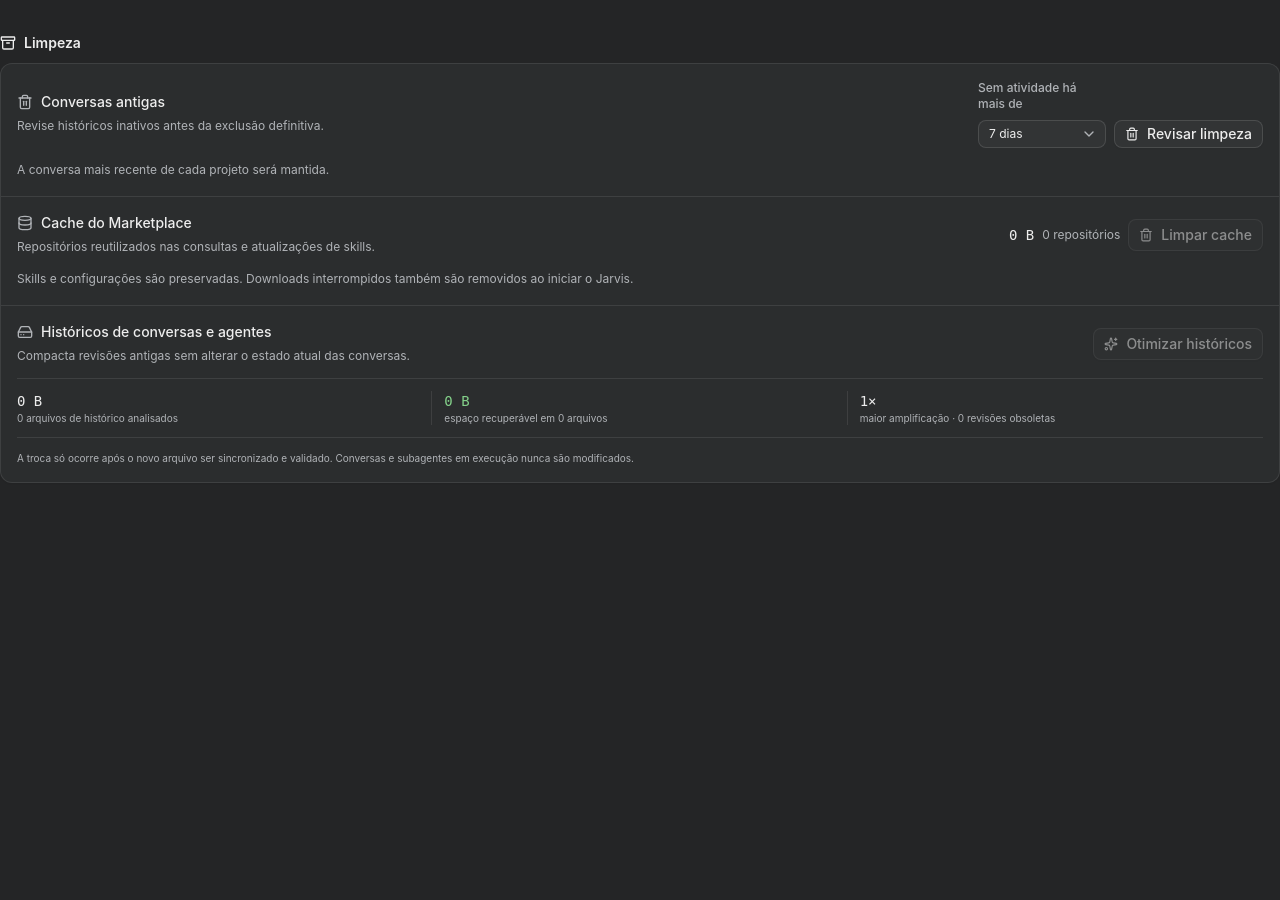
it: conversation cleanup › previews seven-day cleanup and only deletes the reviewed IDs after confirmation
Step 1. Click the button "Revisar limpeza" → x=1188, y=134, box [1114,120,1263,148]
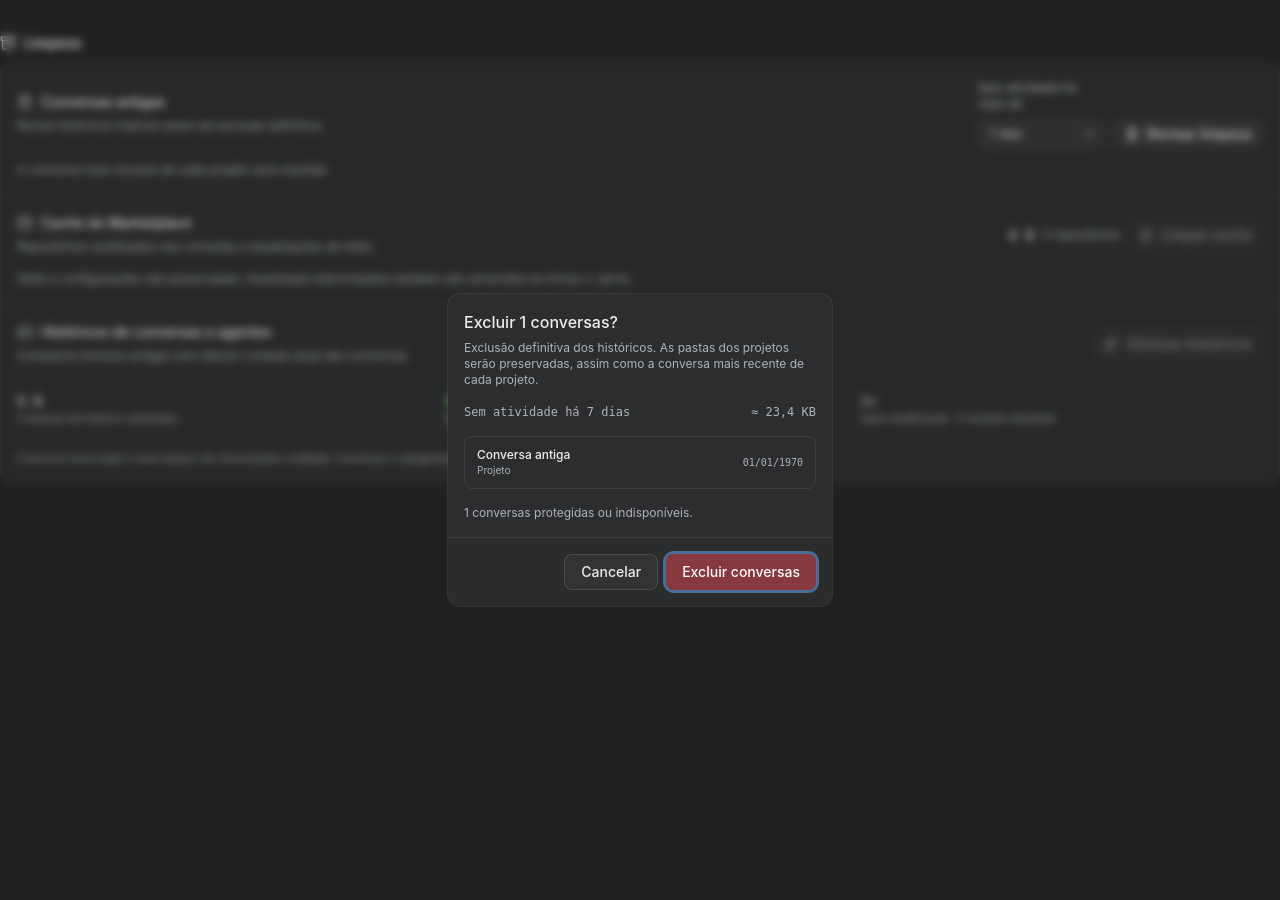
Now the dialog shows "Conversa antiga", box [477,447,570,462]
Now the dialog shows "As pastas dos projetos serão preservadas", box [464,340,804,387]
Step 2. Click the button "Excluir conversas" → x=741, y=572, box [666,554,816,590]
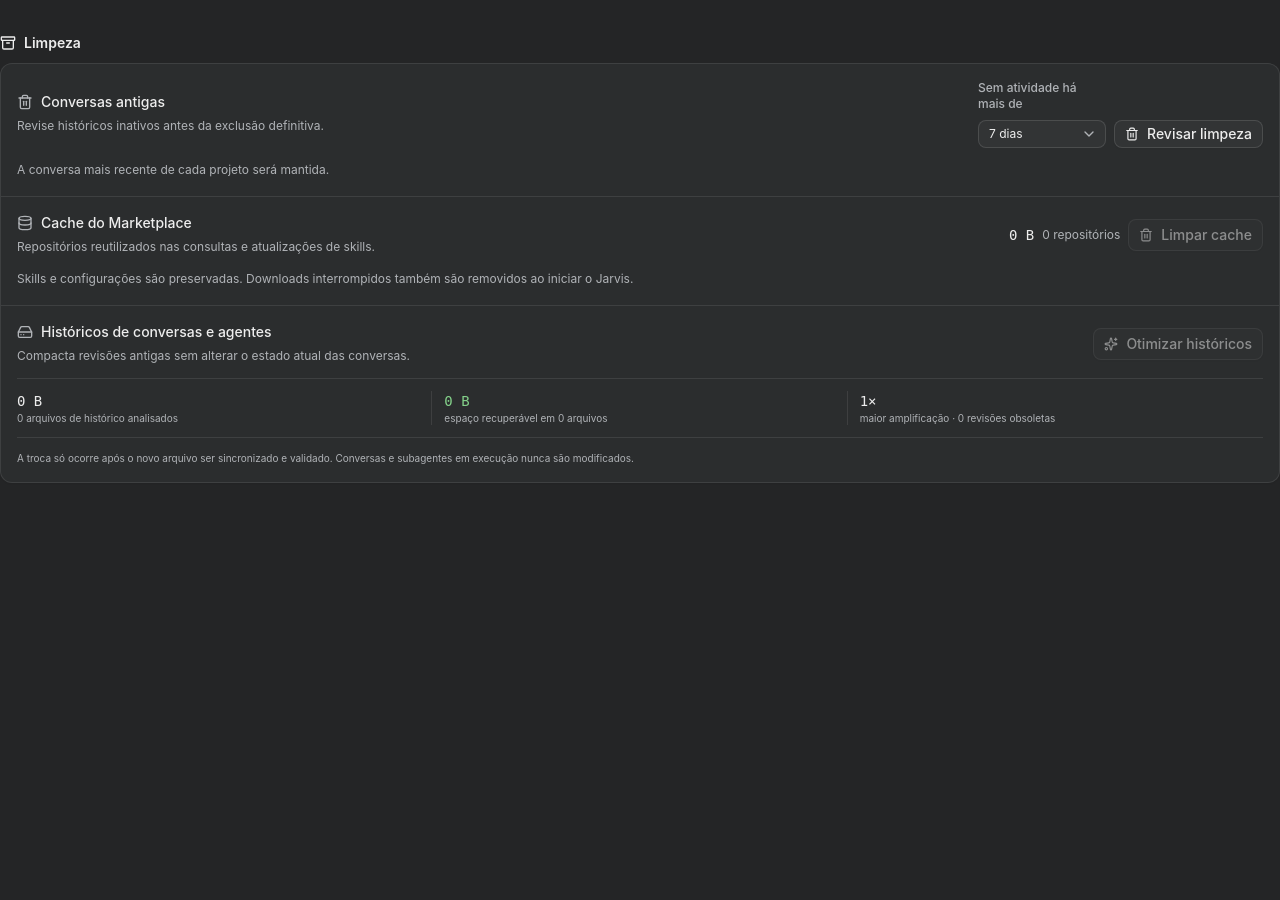
Now the dialog is gone
